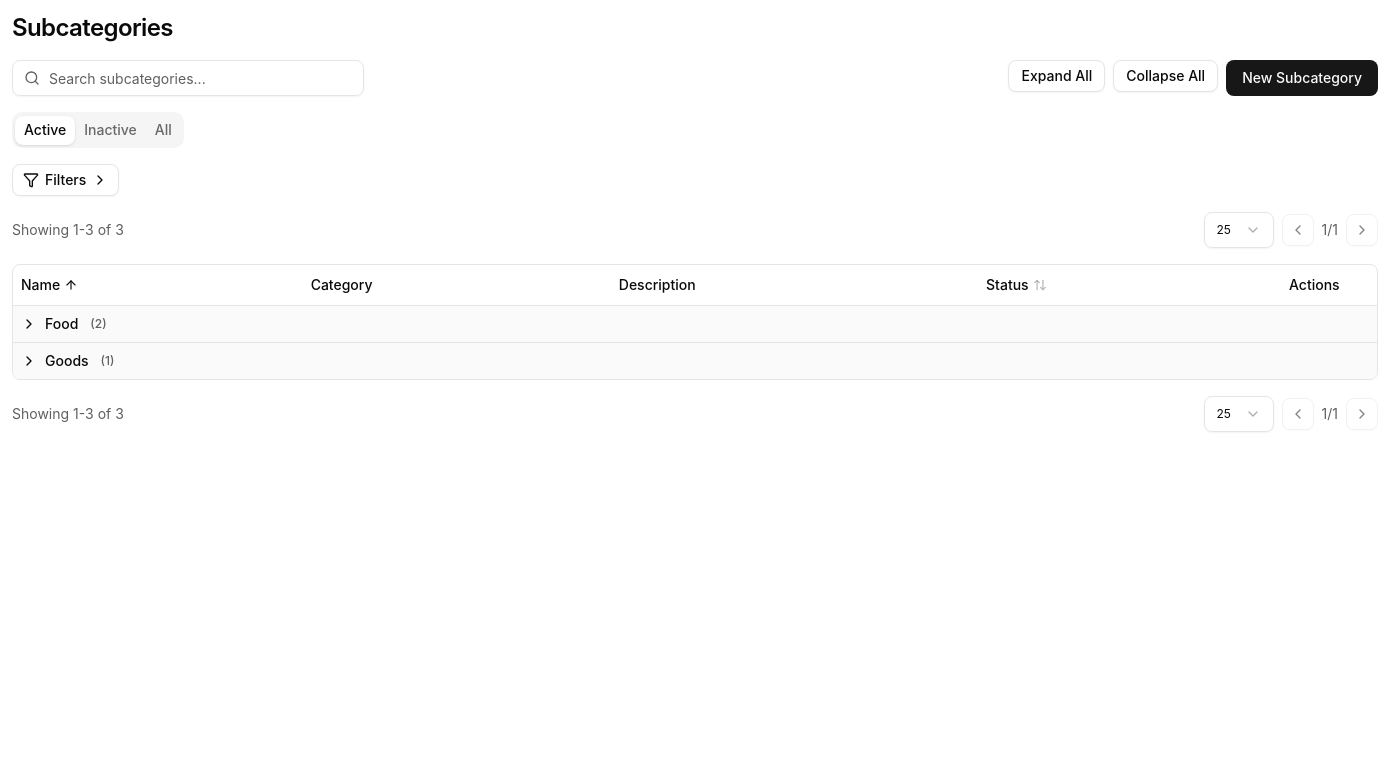
Scenario: Subcategories › clicking a category header expands its group
Step 1. Click the row with test id "category-header-c1" → (695, 324), box [13,305,1377,342]
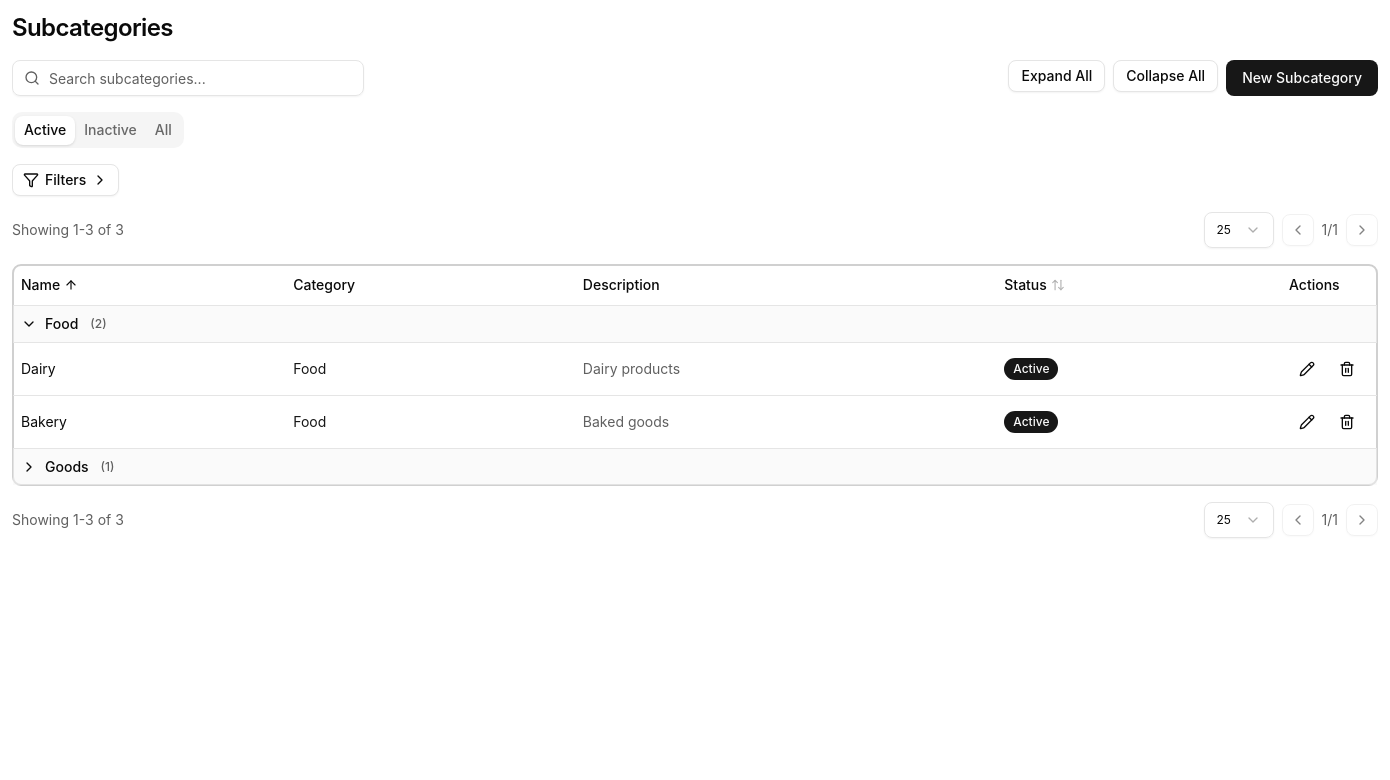
Now the text "Dairy" is shown, box [13,342,285,395]
Now the text "Bakery" is shown, box [13,395,285,448]
